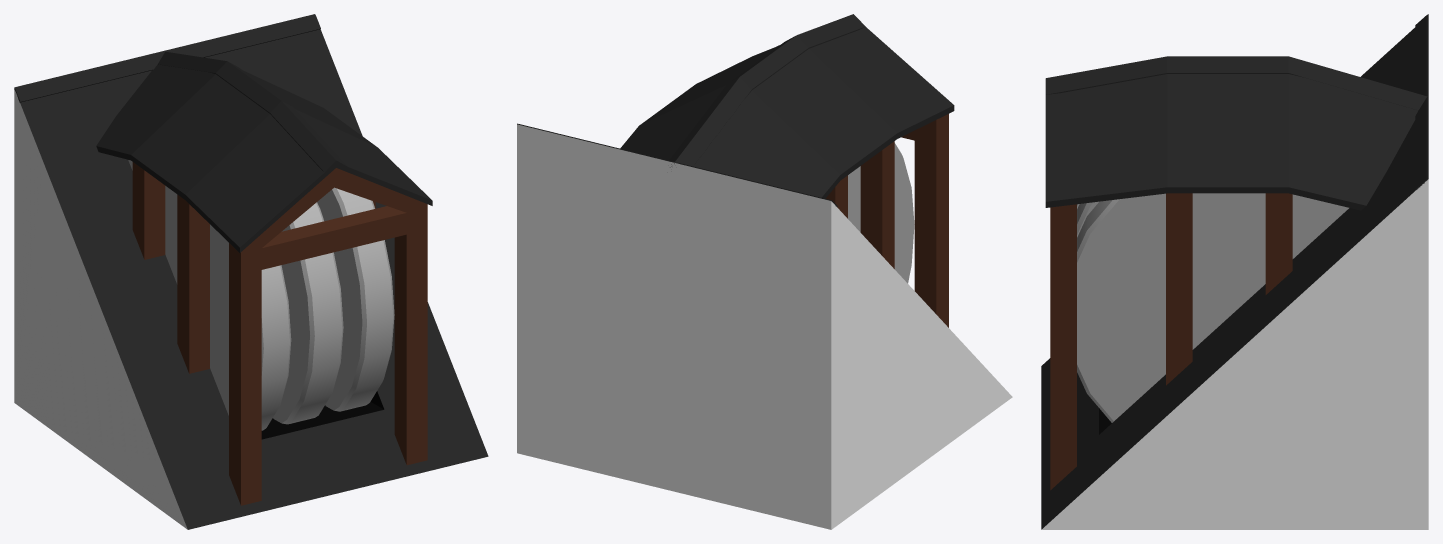
Rendered from roof_05.fbx.
3 views of the same model, side by side, from view 1: azimuth 30°, elevation 25°; view 2: azimuth 150°, elevation 25°; view 3: azimuth 270°, elevation 25° (orthographic). The views are drawn at different scales.
Parts seen in each view (by area): view 1: Roof_05; view 2: Roof_05; view 3: Roof_05.
Boxes of the visible parts, bbox=[...] form: Roof_05: bbox=[14, 14, 488, 529]; Roof_05: bbox=[517, 14, 1012, 529]; Roof_05: bbox=[1041, 14, 1428, 529].
Bounding box in the file's own units: 200 × 223 × 200.
